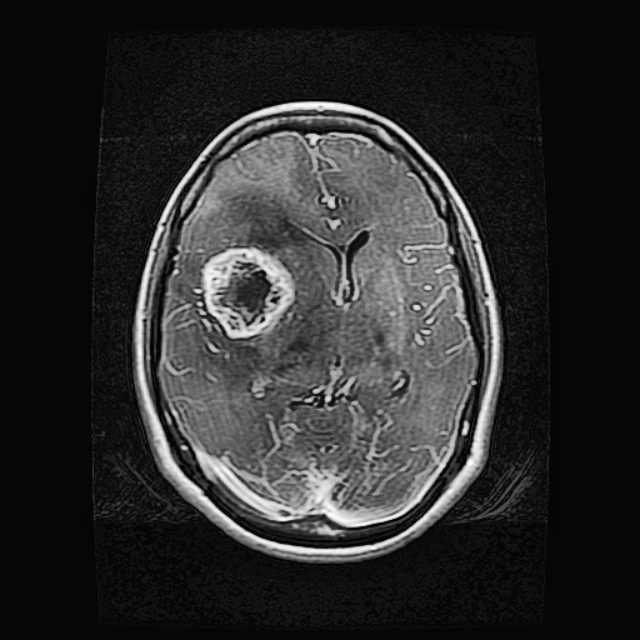Glioma: (197, 244, 298, 339)
